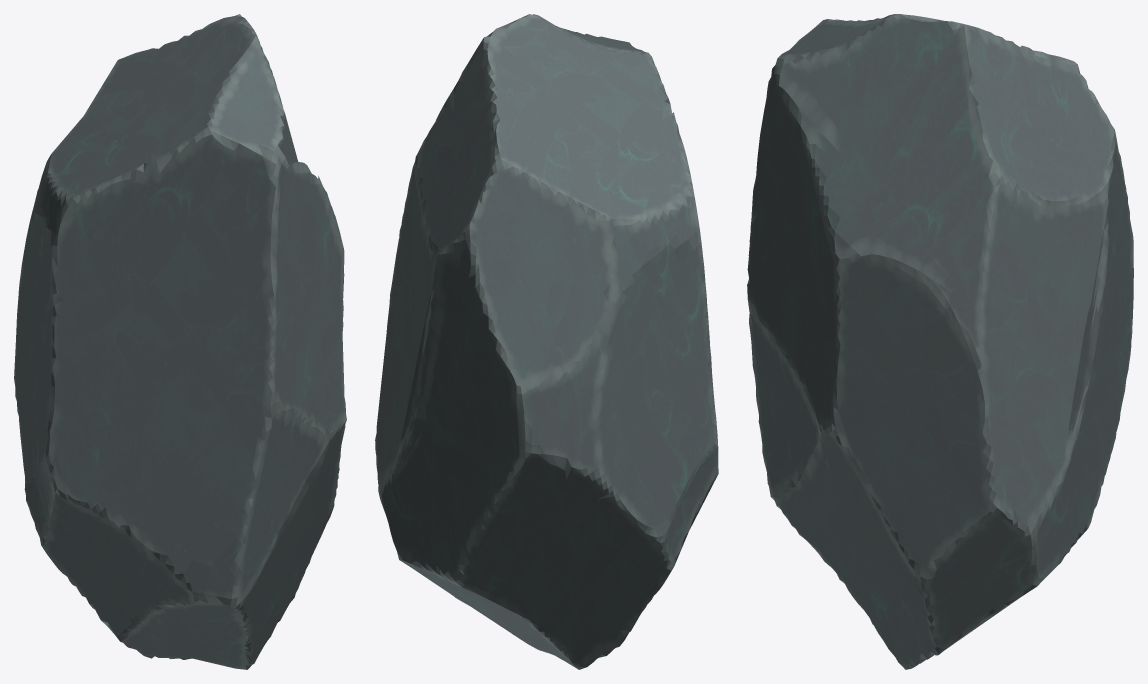
Rendered from Asset_stone02.fbx.
The picture shows the model from 3 angles, left to right: view 1: azimuth 30°, elevation 25°; view 2: azimuth 150°, elevation 25°; view 3: azimuth 270°, elevation 25°; orthographic projection. The views are drawn at different scales.
Visible parts, largest first — view 1: stone2; view 2: stone2; view 3: stone2.
Boxes of the visible parts, x1,y1,x2,y2 form: stone2: (14, 14, 346, 669); stone2: (375, 14, 718, 669); stone2: (747, 14, 1133, 669).
Bounding box in the file's own units: 65.2 × 128 × 68.06.
